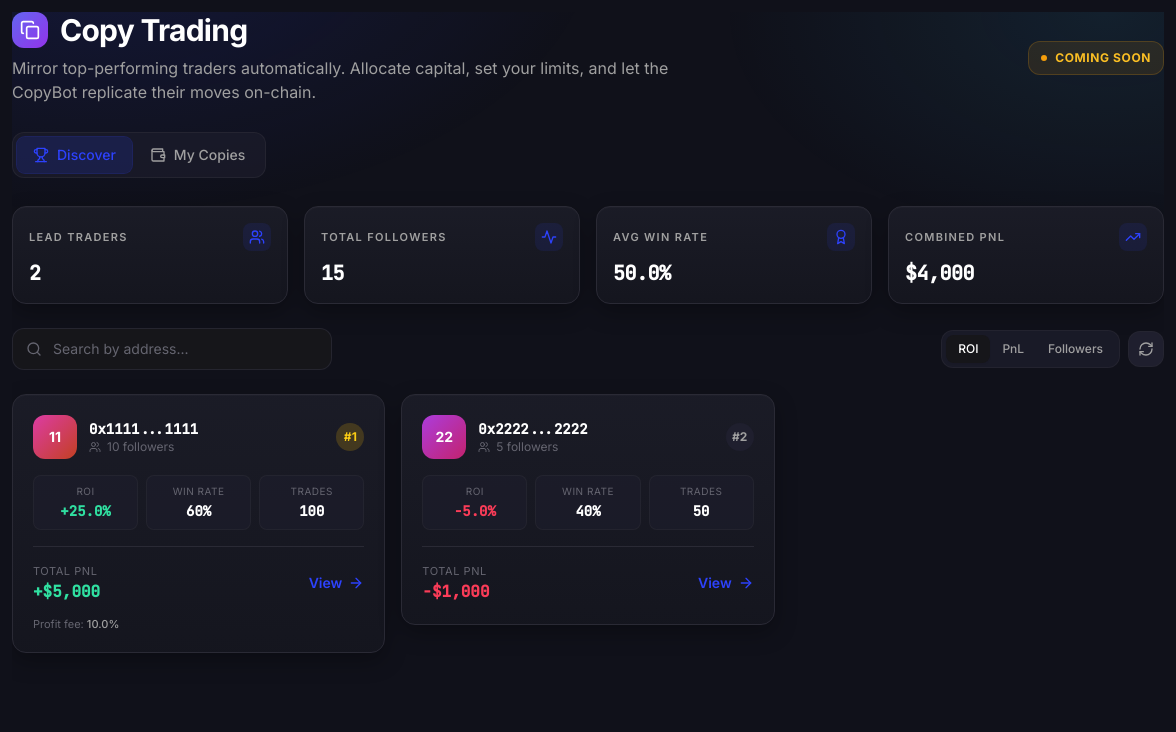
Test case: CopyTradingPage › switches to My Copies tab and shows empty state when connected
What coordinates should you click on to do the following:
click the button "My Copies"
I would click on:
 (198, 155)
Its box is [134,137,261,173].
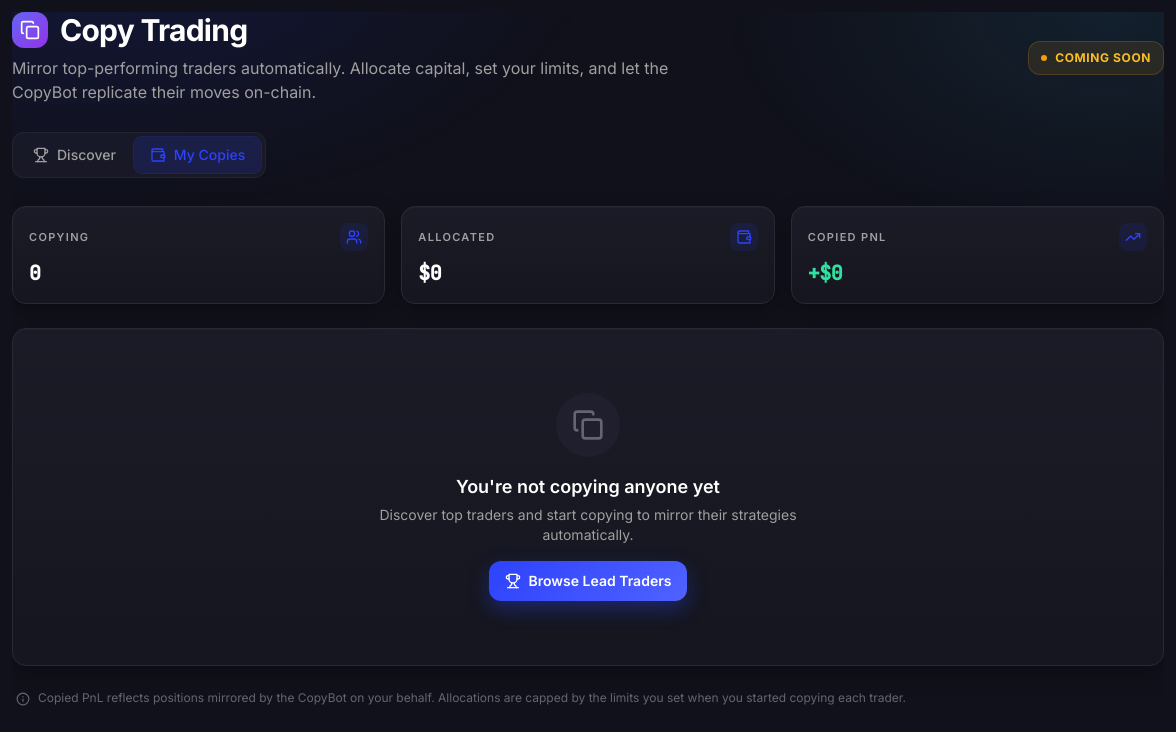
Now the heading "You're not copying anyone yet" is shown, box [456,476,720,497]
